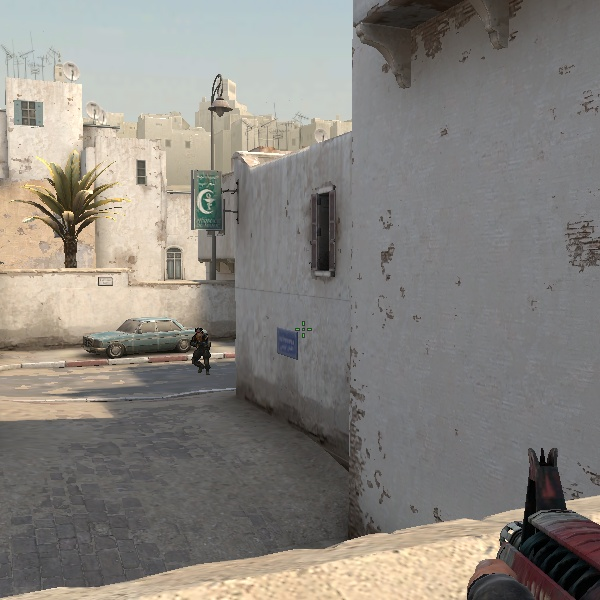ct_body: (183, 324, 213, 373)
t_body: (183, 324, 213, 373)
t_head: (192, 325, 207, 340)
